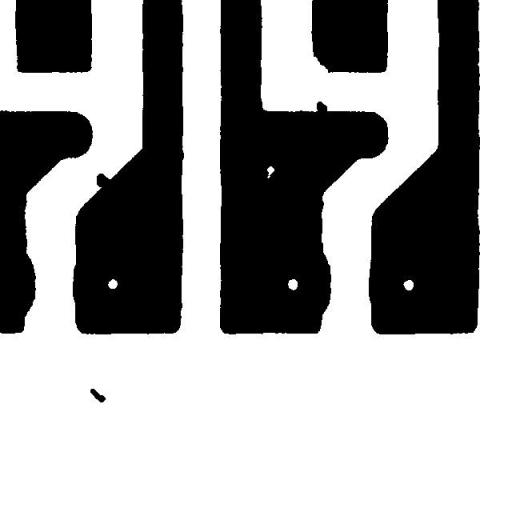copper: (82, 380, 113, 410)
mousebite: (303, 49, 335, 84)
pin-hole: (259, 158, 282, 186)
spur: (88, 166, 118, 196), (309, 94, 334, 120)
